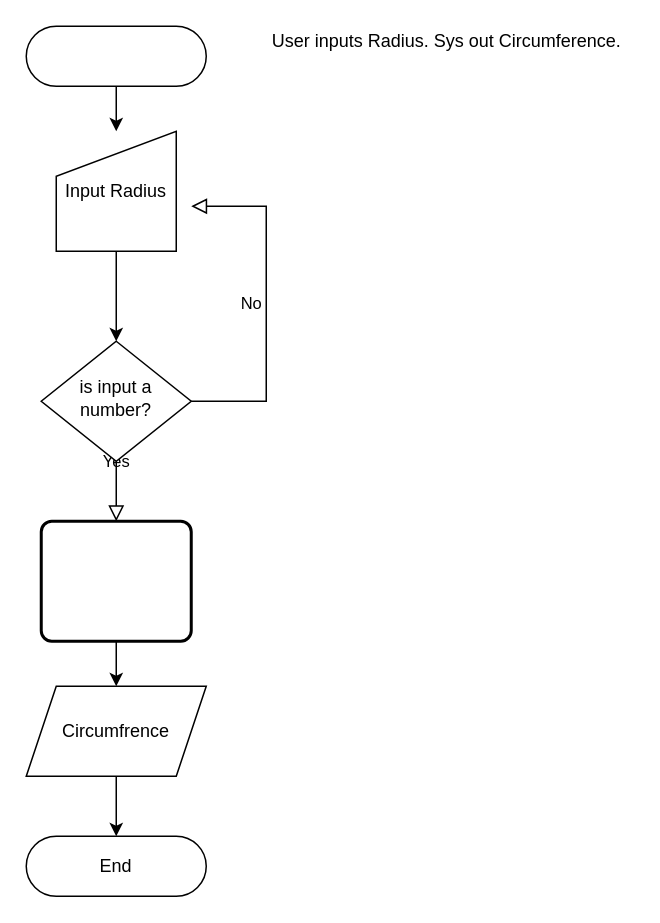
This 660x923 diagram has some shape labels left out. Here are the shapes that lost their labels. From the top down, the centre of each, then its label:
the point at 115,55: Start
the point at 115,580: Calculate Circumference 2πr
